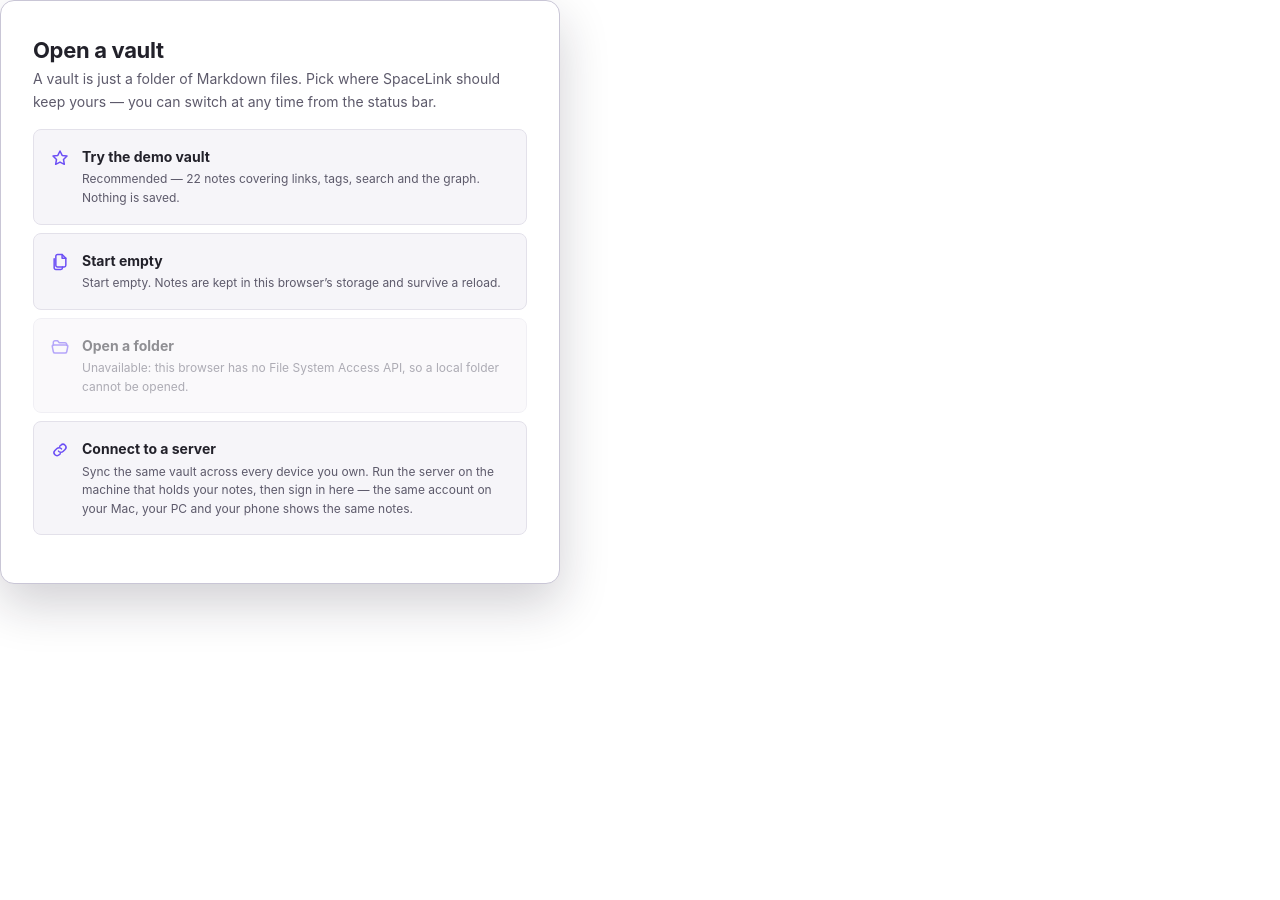
Scenario: VaultPicker › reports a vault that fails to load rather than silently opening nothing
The width and height of the screenshot is (1280, 900).
Click the button that starts with "Start empty".
click(122, 260)  # box x1=33 y1=232 x2=527 y2=310
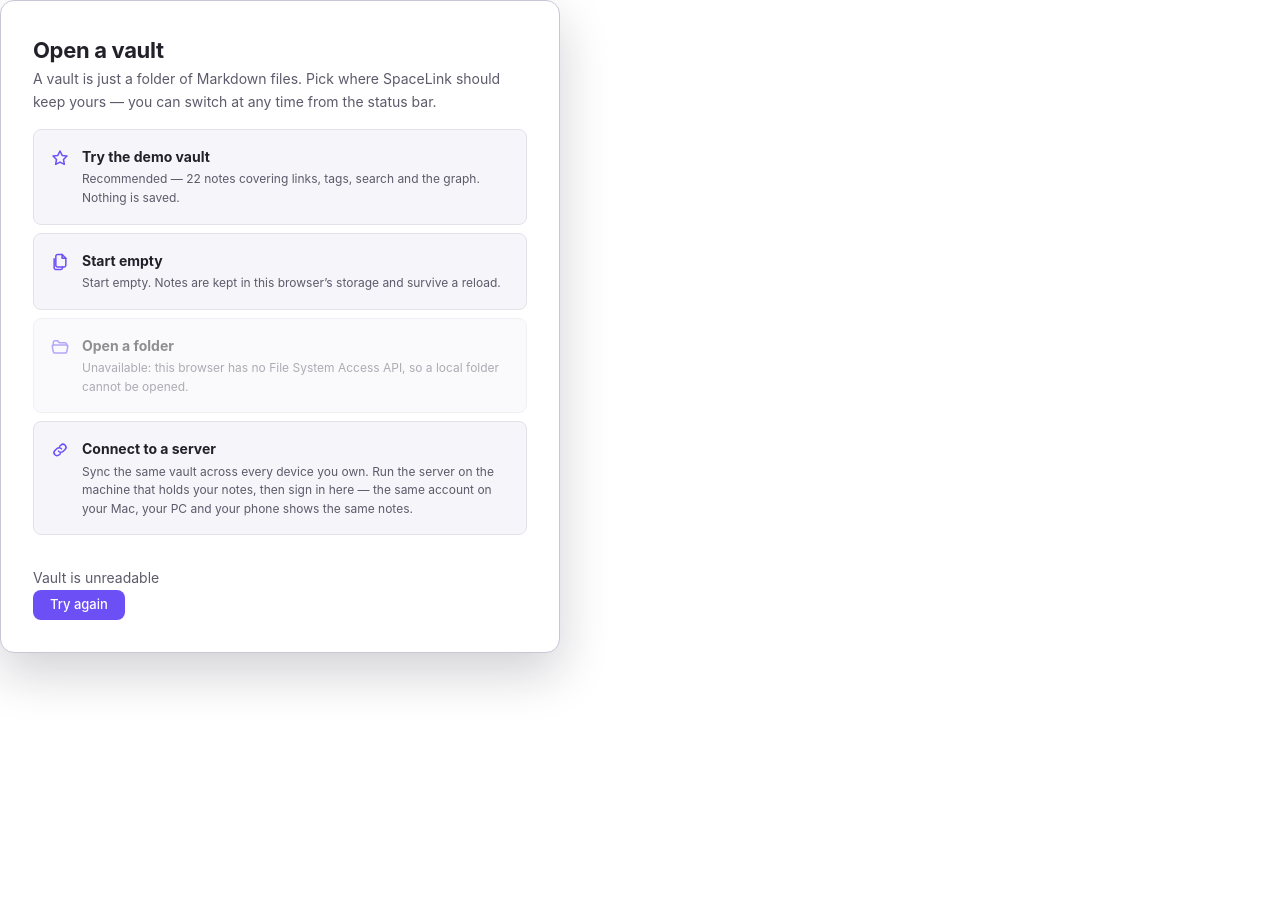
Expected: the message shows "Vault is unreadable", x1=33 y1=569 x2=159 y2=586
